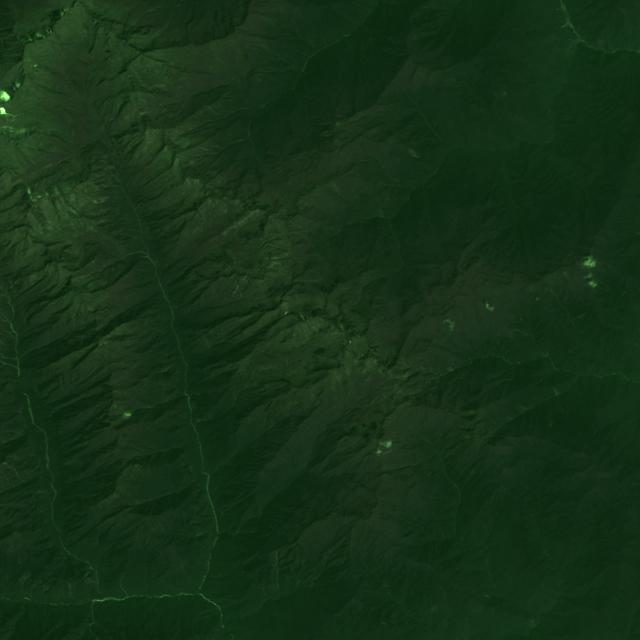landslides: (0, 477, 50, 496), (291, 27, 316, 50), (2, 462, 24, 483), (156, 361, 179, 375), (120, 572, 128, 598), (331, 182, 344, 198), (410, 149, 427, 161), (571, 313, 586, 324), (134, 464, 144, 480), (544, 287, 558, 298), (419, 144, 437, 151), (378, 181, 399, 187), (89, 626, 98, 640), (207, 106, 219, 116), (276, 550, 279, 587), (207, 574, 228, 579), (287, 519, 297, 529)
